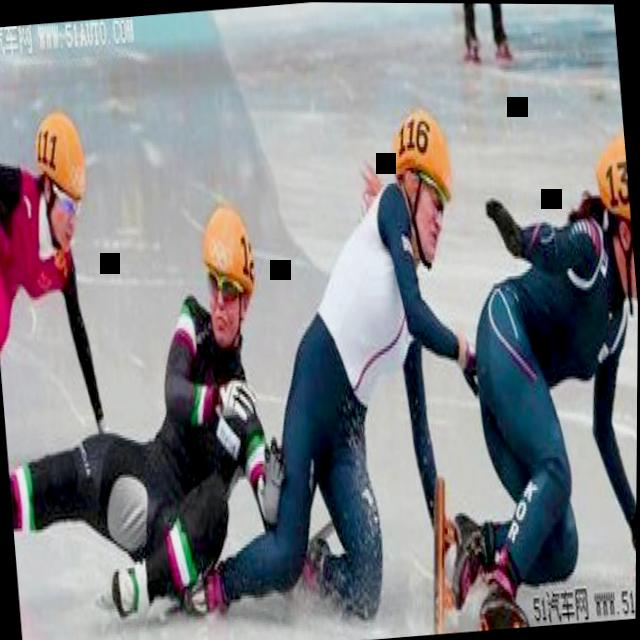Fall-Detected: (0, 162, 304, 639)
